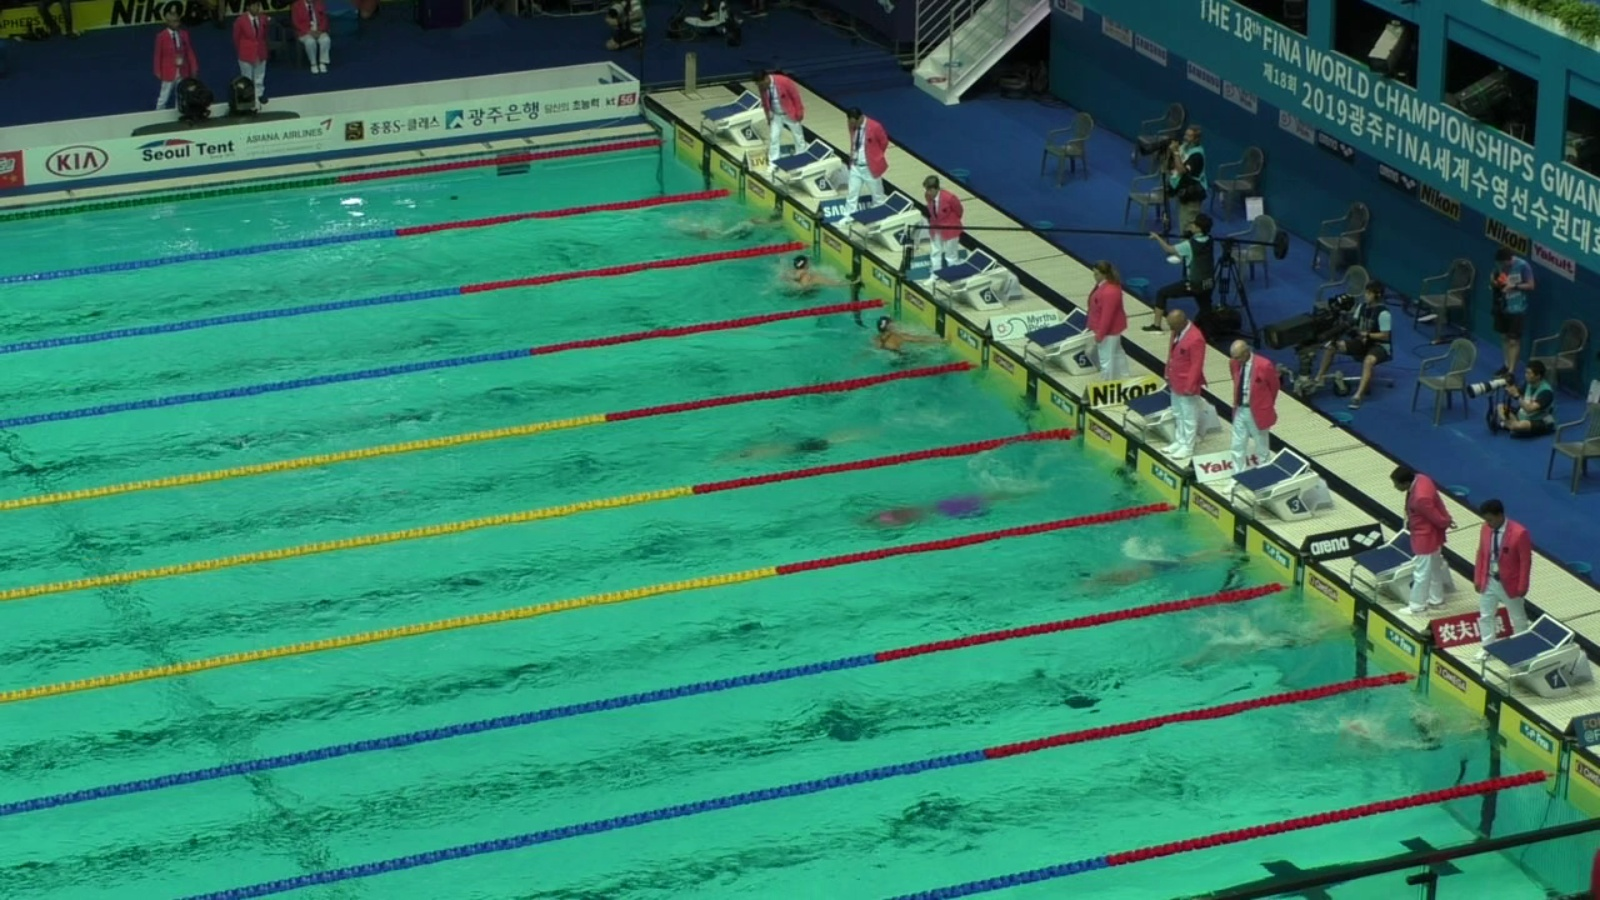swimmerwdd: (1081, 545, 1270, 589), (865, 484, 1054, 527), (1335, 708, 1485, 762), (727, 432, 905, 460), (866, 316, 963, 367), (686, 209, 789, 243), (1215, 627, 1349, 653), (787, 256, 843, 308)
